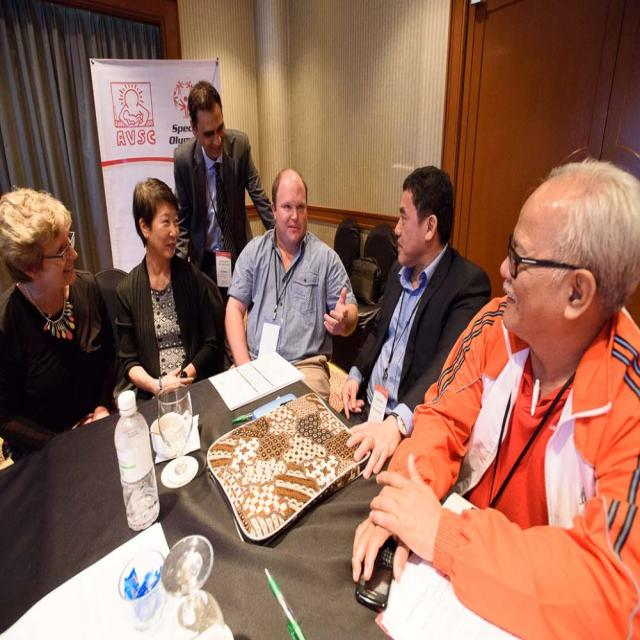body: (345, 151, 639, 639), (339, 163, 494, 483), (0, 185, 122, 465), (223, 165, 360, 406), (108, 173, 222, 415), (172, 80, 275, 284)
